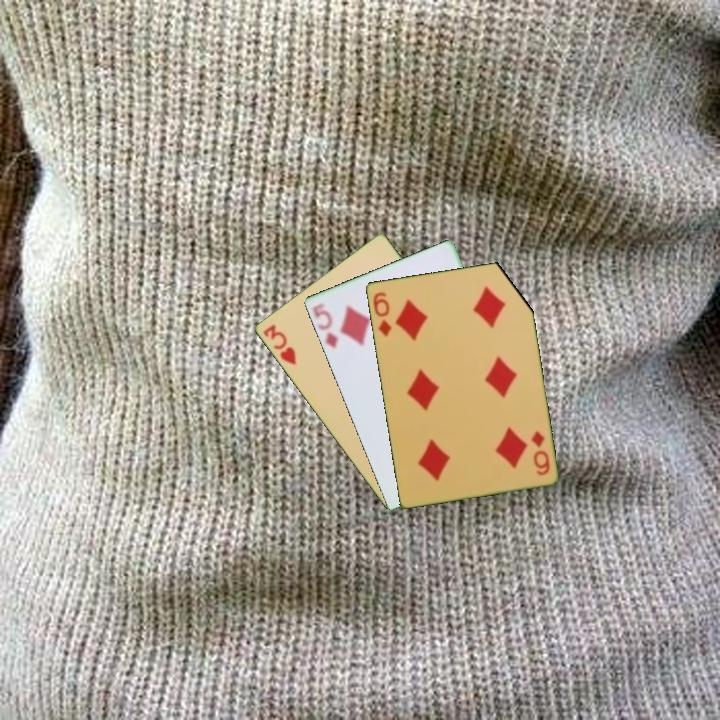3h: (259, 320, 299, 368)
5d: (309, 302, 341, 351)
6d: (369, 288, 394, 339), (527, 427, 552, 478)
